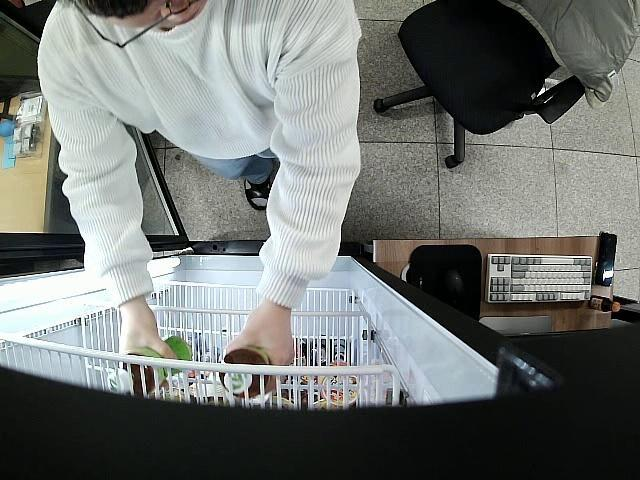19_17cha: (106, 336, 193, 398), (218, 345, 272, 399)
